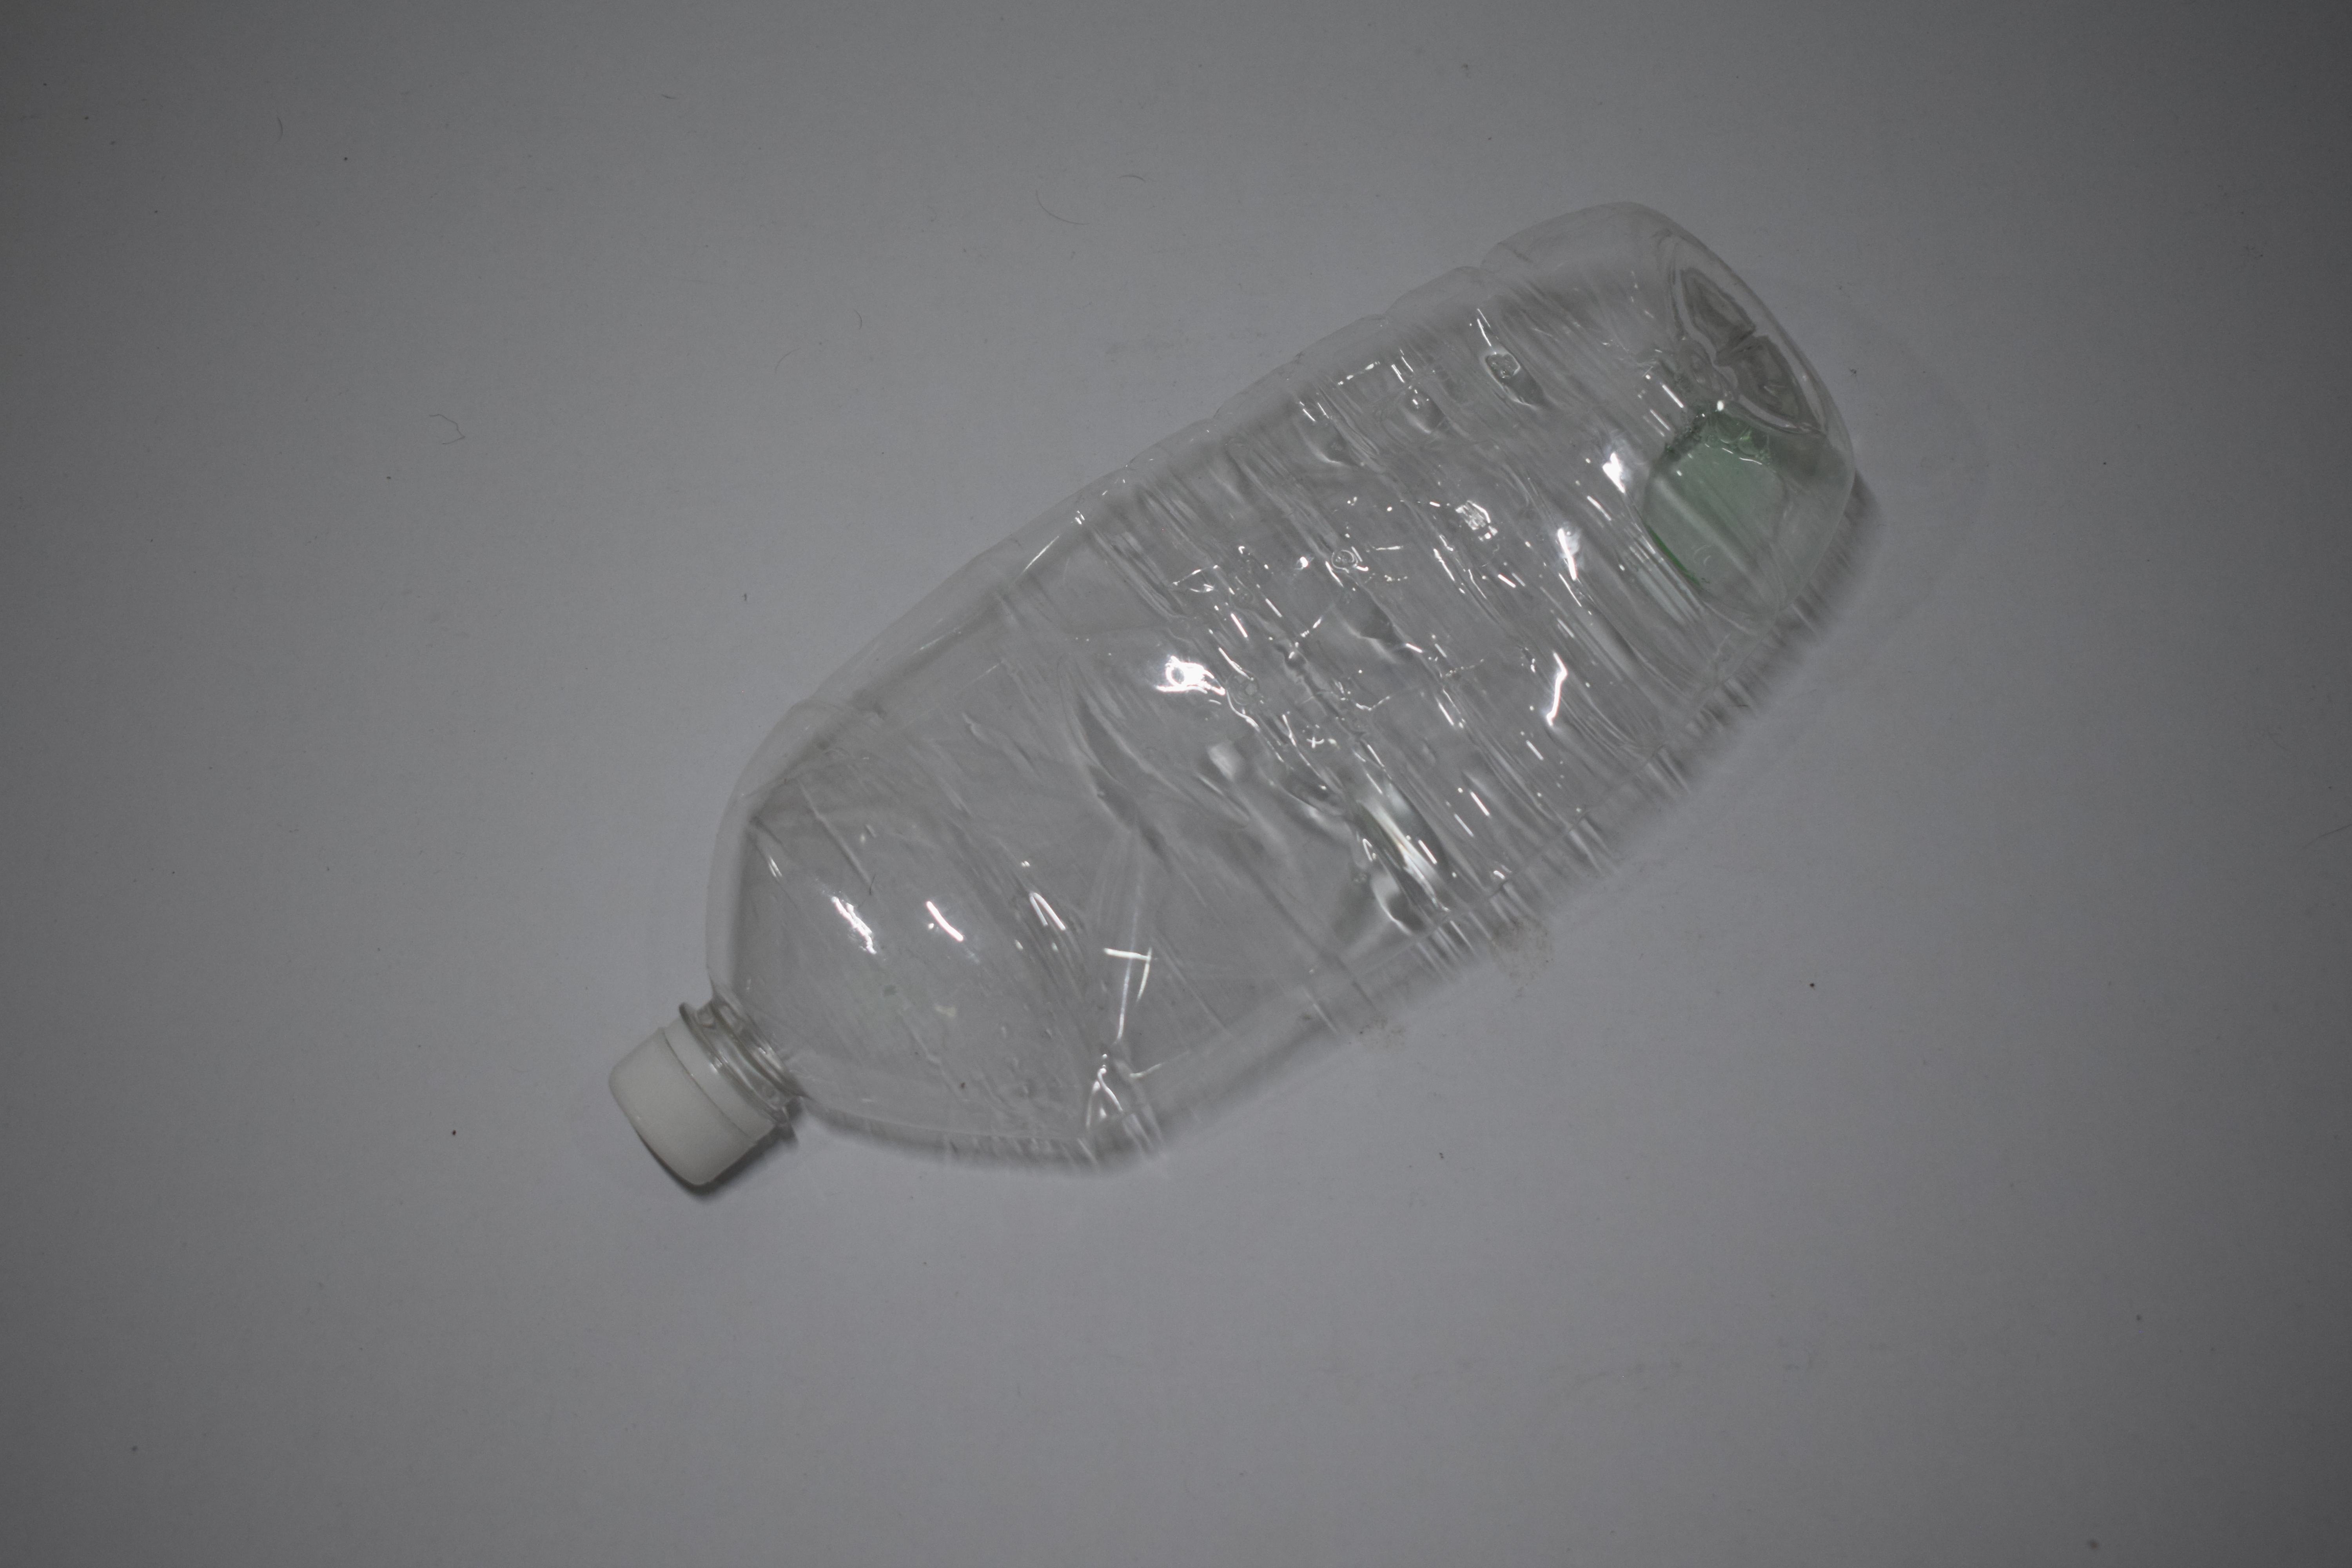bottle: (14, 220, 112, 1171)
